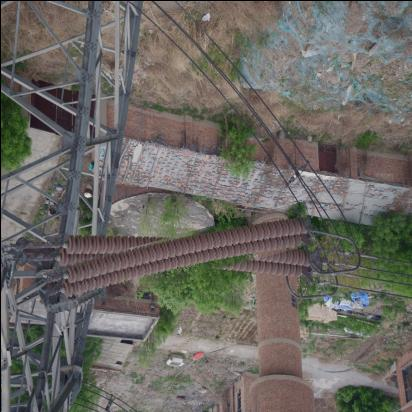insulator: (43, 218, 317, 297)
